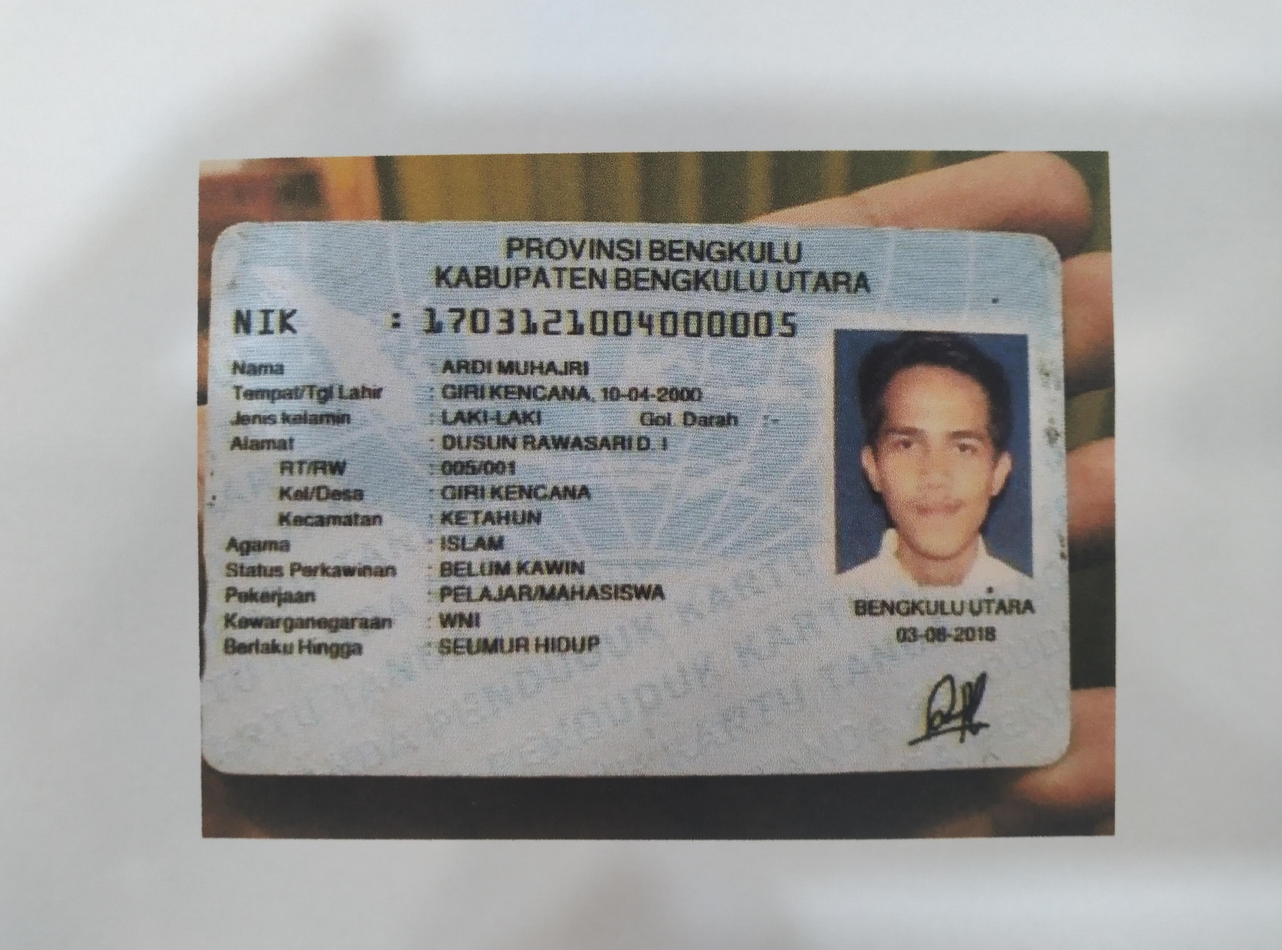ID-card: (205, 229, 1062, 764)
